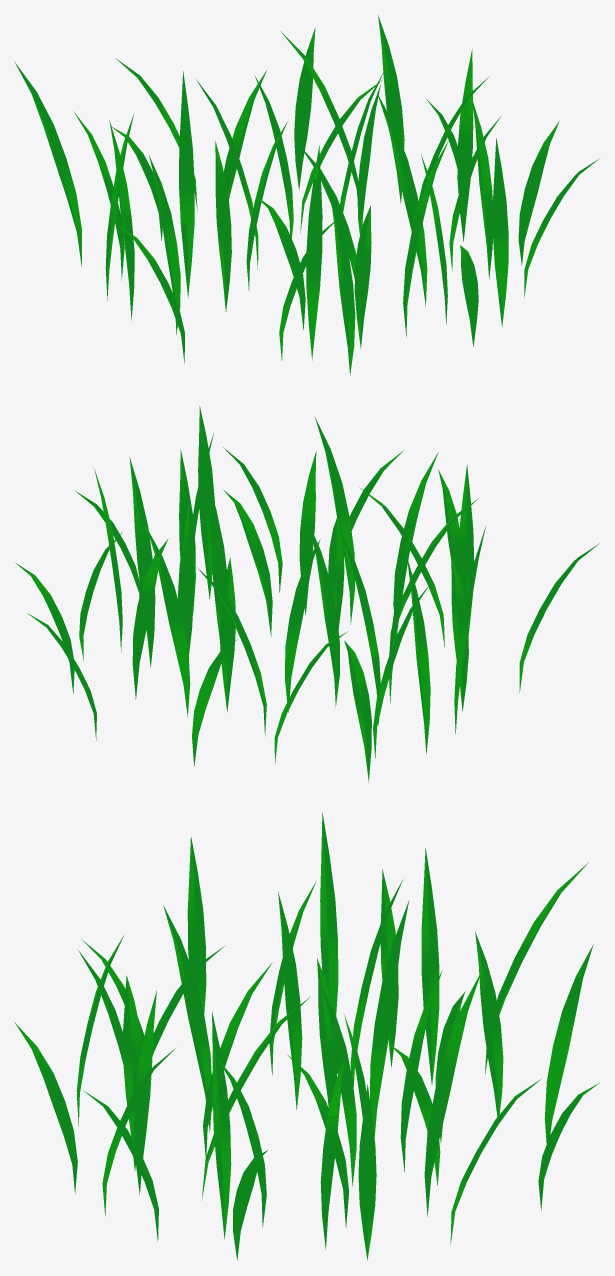
File: DarkGrass_Type1_VertexPainted.fbx
3 renders of one model, top to bottom at view 1: azimuth 30°, elevation 25°; view 2: azimuth 150°, elevation 25°; view 3: azimuth 270°, elevation 25°, orthographic. The views are drawn at different scales.
Visible parts, largest first — view 1: Grass; view 2: Grass; view 3: Grass.
Boxes of the visible parts, bbox=[...] form: Grass: bbox=[14, 15, 599, 375]; Grass: bbox=[16, 406, 599, 782]; Grass: bbox=[14, 812, 599, 1260].
Size of the model in its own units: 348 by 148 by 322.
1 material, 1 textured.
